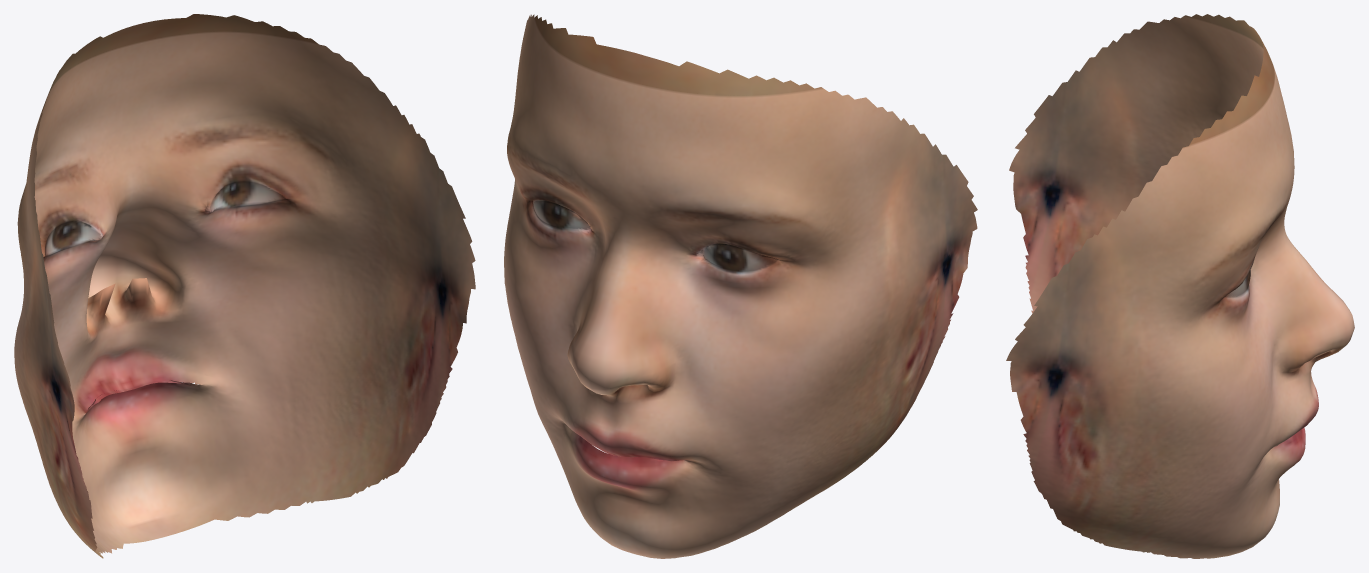
3 views of the same model, side by side, from view 1: azimuth 30°, elevation 25°; view 2: azimuth 150°, elevation 25°; view 3: azimuth 270°, elevation 25° (orthographic). The views are drawn at different scales.
Parts seen in each view (by area): view 1: uwoo_output_mesh; view 2: uwoo_output_mesh; view 3: uwoo_output_mesh.
Boxes of the visible parts, x1,y1,x2,y2 form: uwoo_output_mesh: (14,14,475,558); uwoo_output_mesh: (504,14,977,558); uwoo_output_mesh: (1006,14,1354,558).
Size of the model in its own units: 1.44 by 1.67 by 1.08.
Materials: 1 (1 with a texture image).
